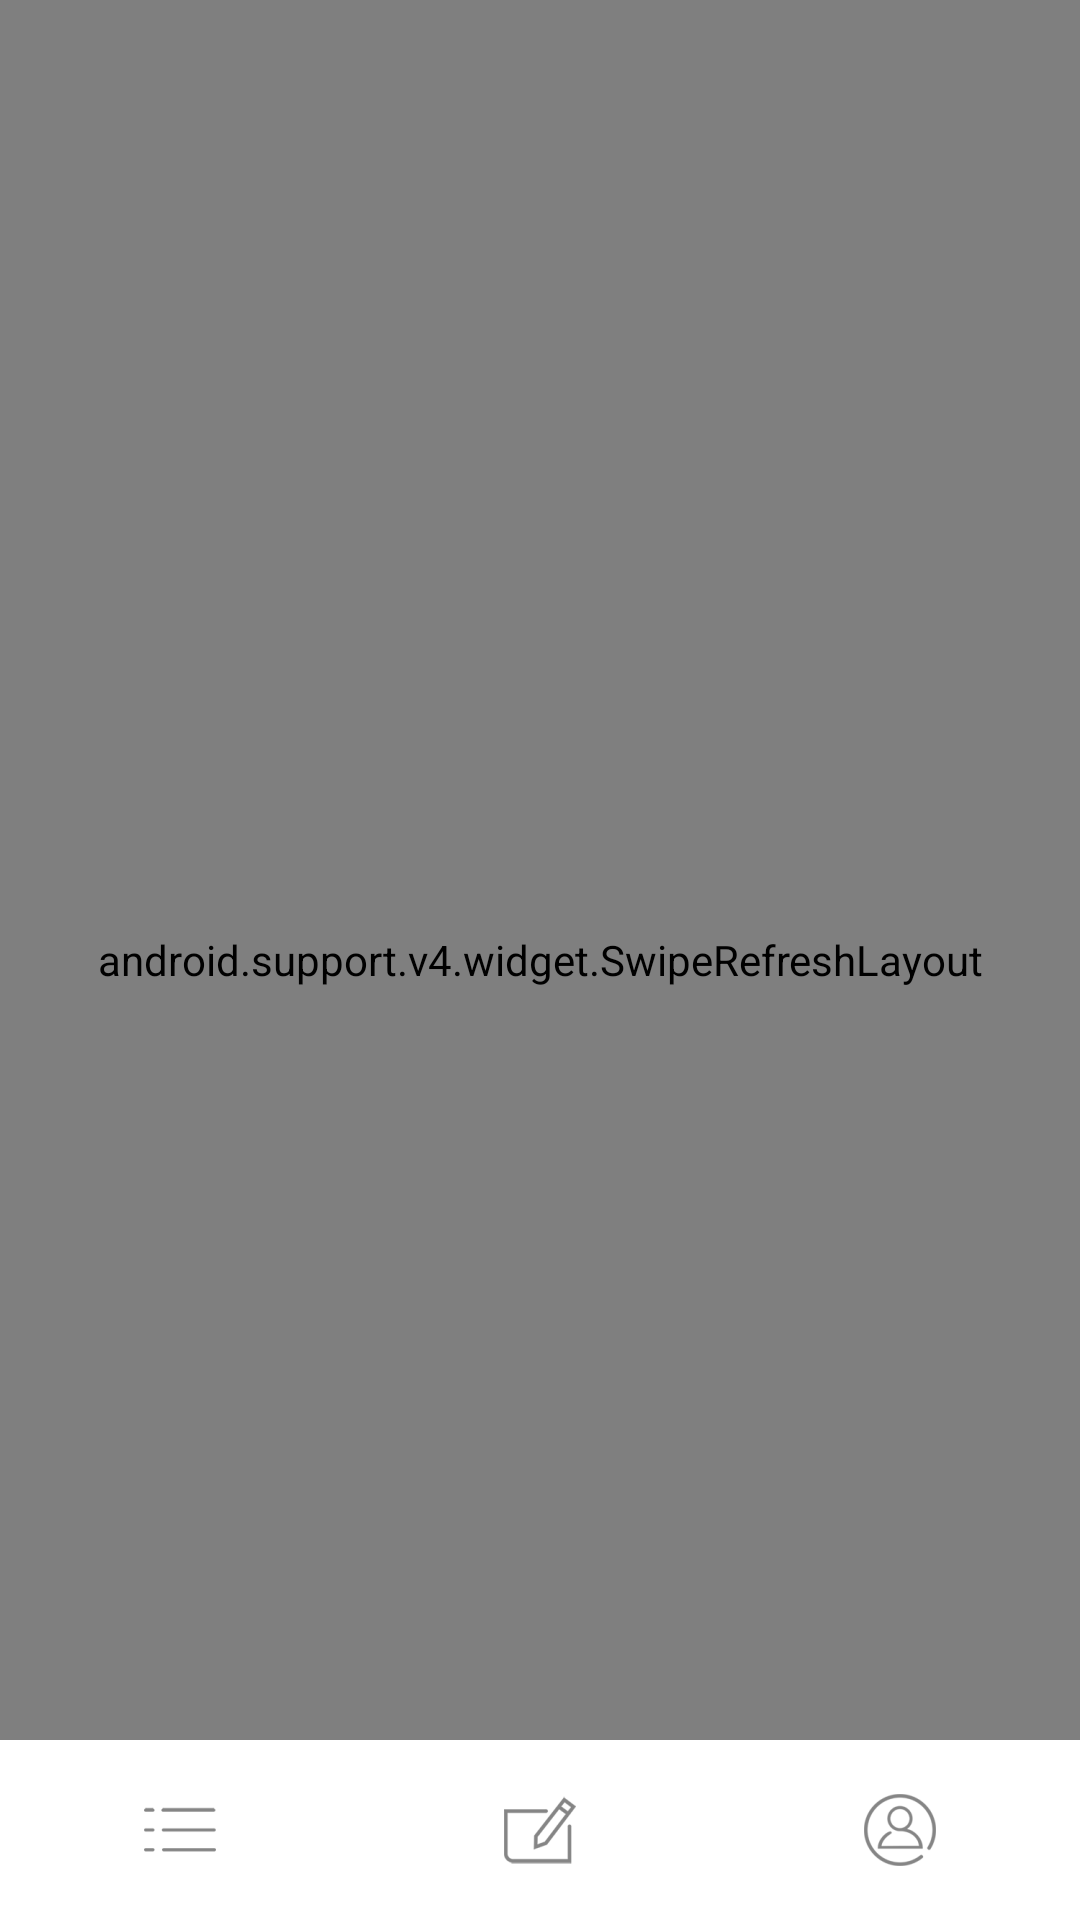

Icons on this 1080x1920 Android screen, each with the point to tap as (x=x, y=y):
yonghu: (x=900, y=1830)
